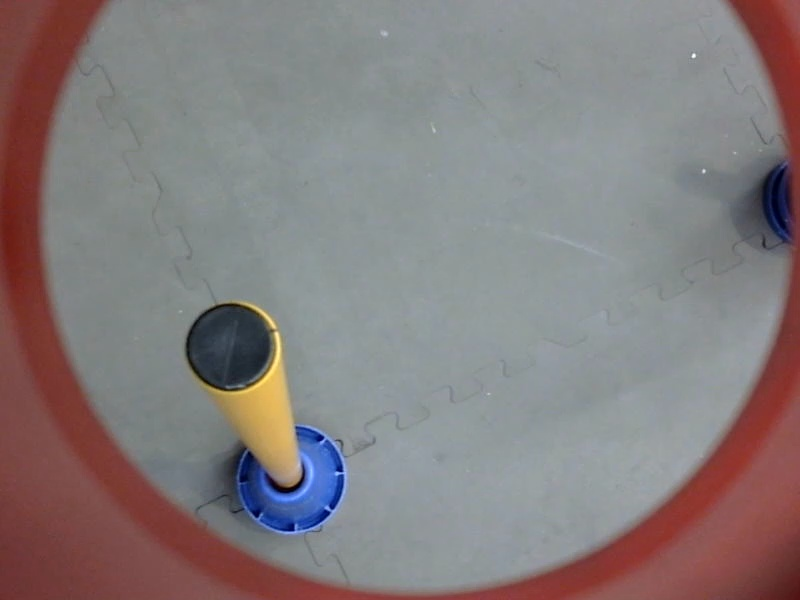tip: (176, 296, 289, 402)
